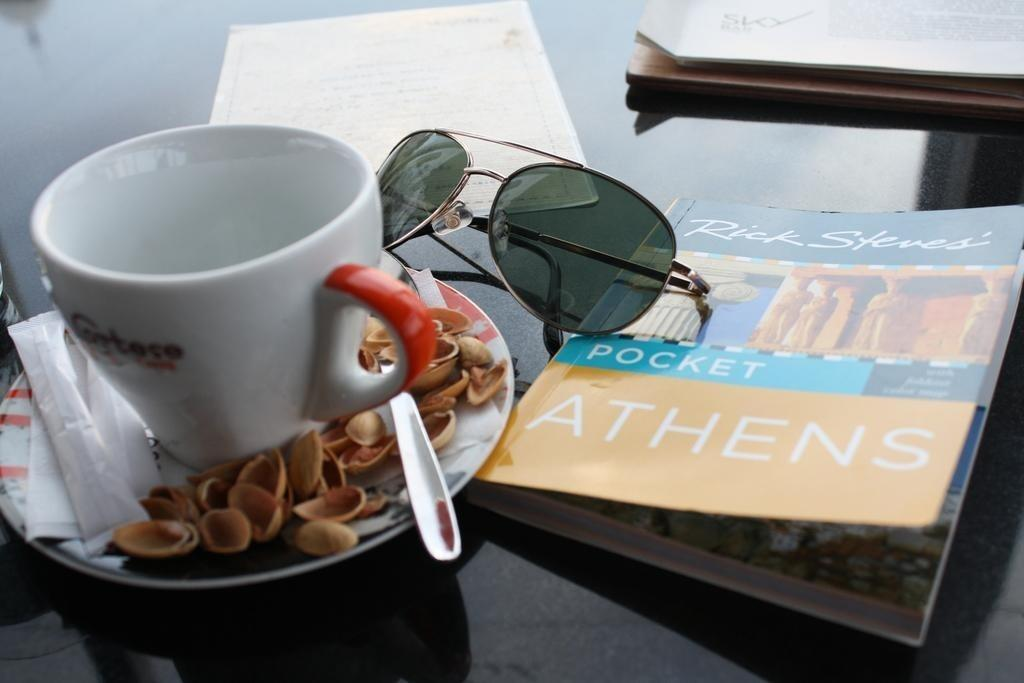cup-handle: (28, 118, 429, 473)
